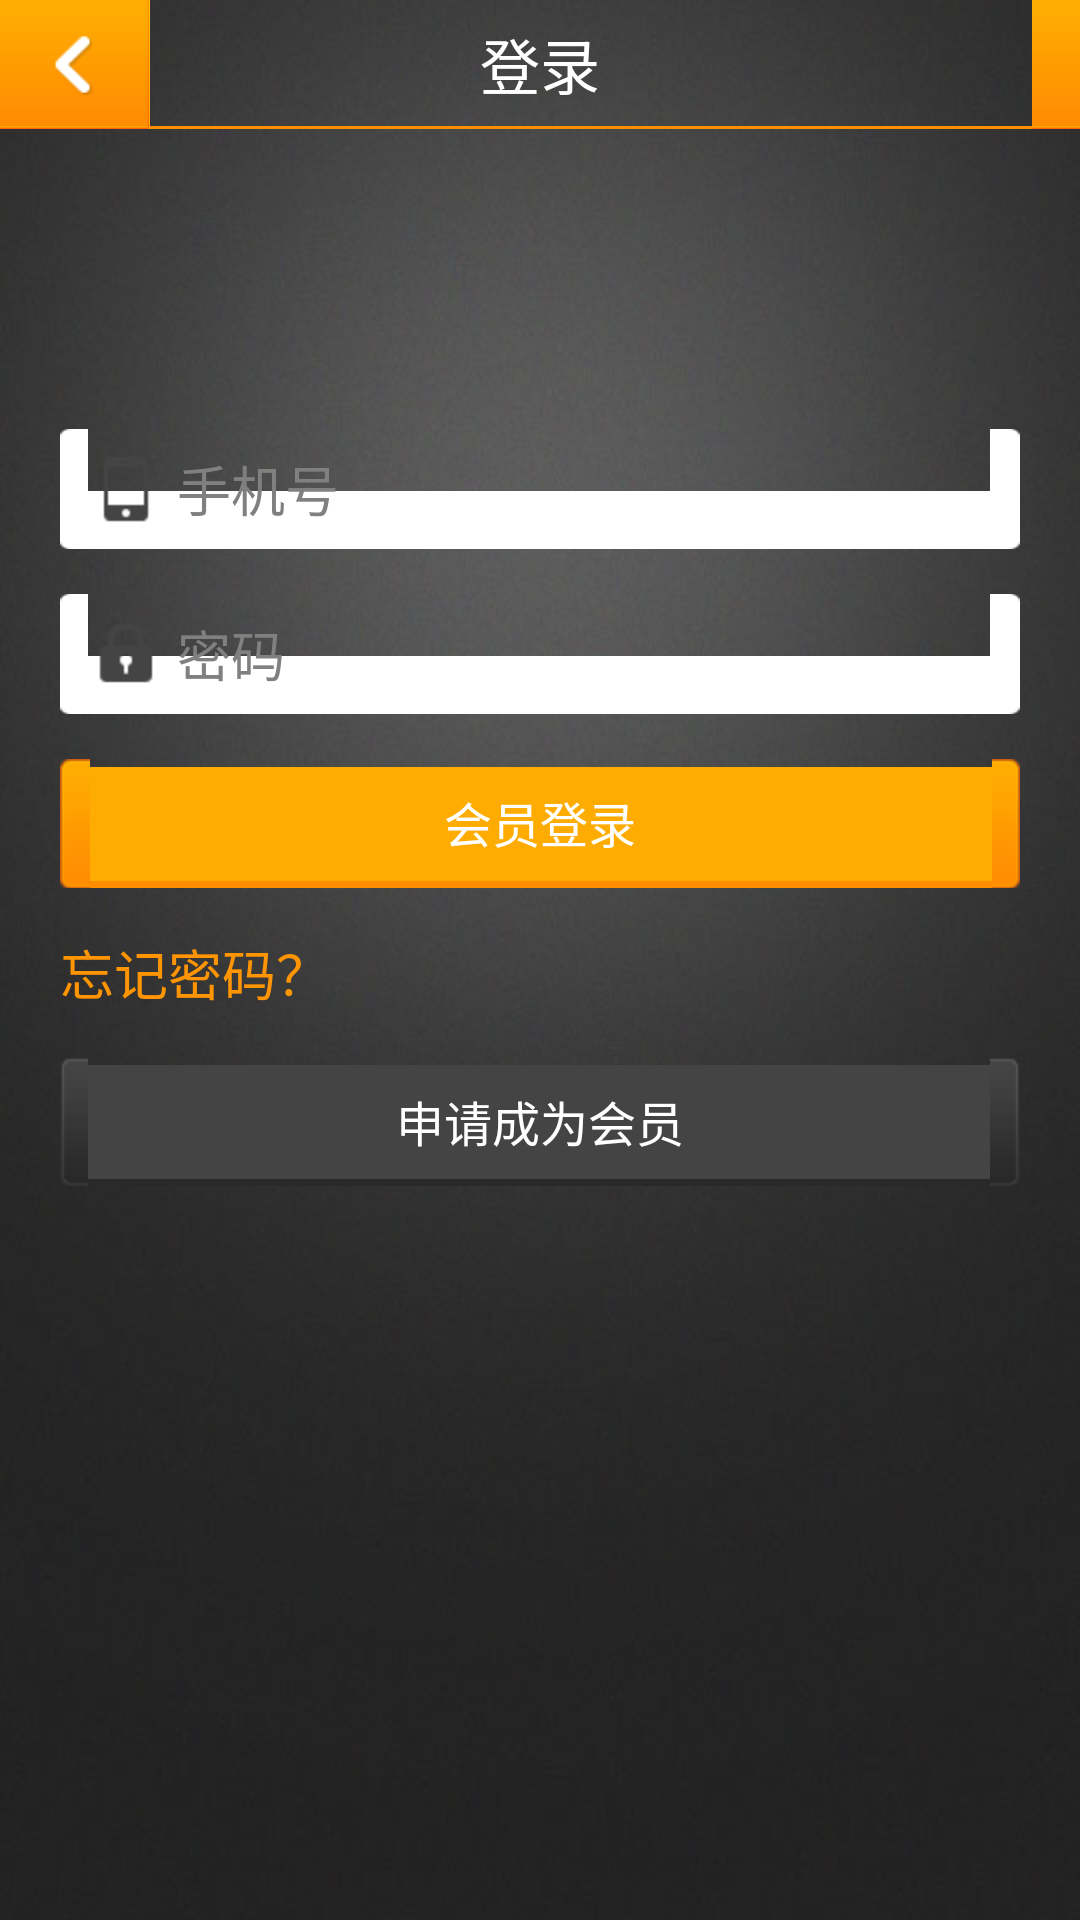

Where icons sit on this 1080 × 1920 app screen, as (x1, y1, x2, y2):
back: (37, 27, 112, 96)
